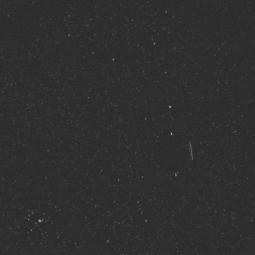earth_observation_sat_1: (142, 124, 204, 184)
